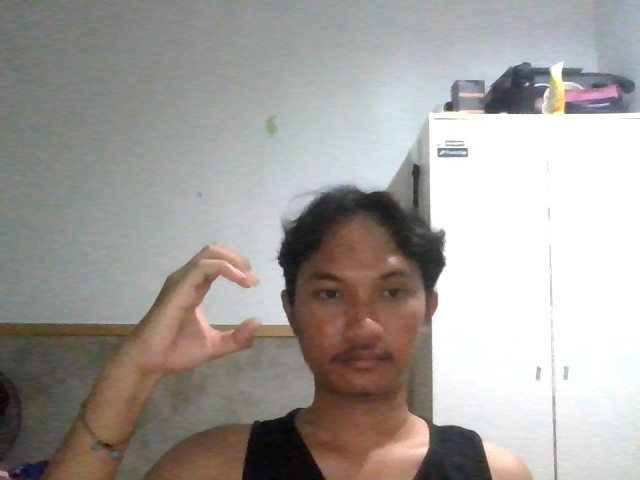c: (121, 234, 270, 379)
